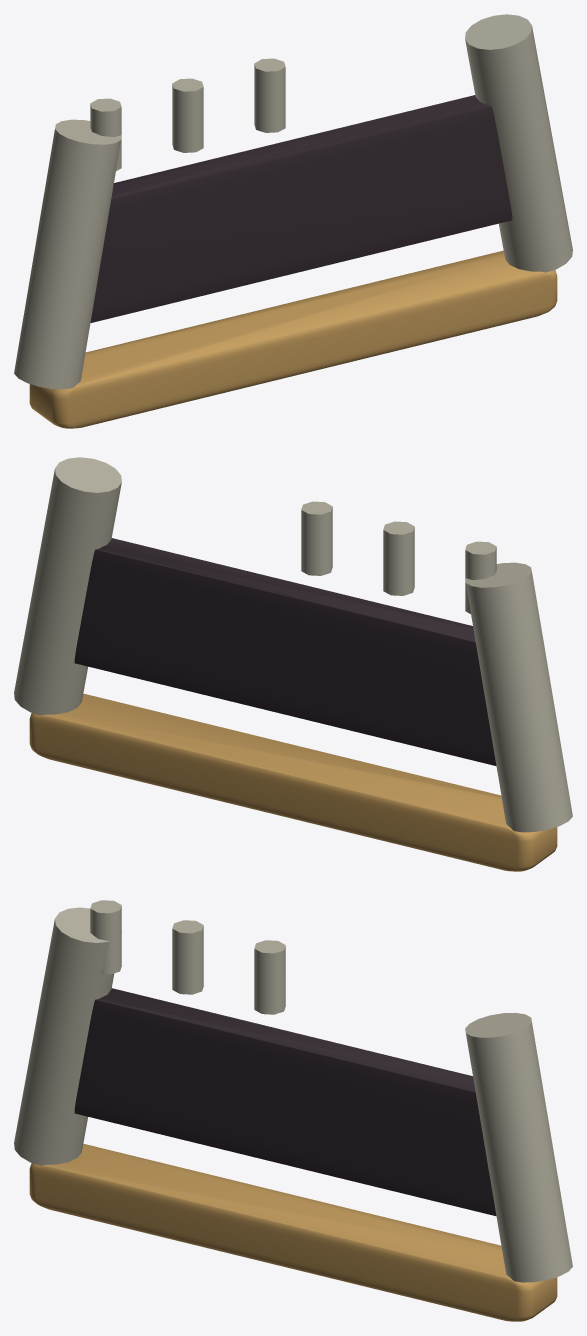
File: Metropolitan.glb
3 renders of one model, top to bottom at view 1: azimuth 30°, elevation 25°; view 2: azimuth 150°, elevation 25°; view 3: azimuth 330°, elevation 25°, orthographic.
Visible parts, largest first — view 1: Ribbon window, Lift bridge, Vibrator fork (×2), Eyelet (×3); view 2: Ribbon window, Lift bridge, Vibrator fork (×2), Eyelet (×3); view 3: Ribbon window, Lift bridge, Vibrator fork (×2), Eyelet (×3).
Part boxes in pixels (box(x1,y1,x2,y2)): Ribbon window: box(90, 95, 512, 322); Lift bridge: box(29, 250, 557, 428); Vibrator fork (×2): box(14, 14, 572, 389); Eyelet (×3): box(90, 58, 285, 170); Ribbon window: box(74, 538, 496, 765); Lift bridge: box(29, 693, 557, 871); Vibrator fork (×2): box(14, 457, 572, 832); Eyelet (×3): box(301, 501, 496, 613); Ribbon window: box(74, 988, 496, 1215); Lift bridge: box(29, 1143, 557, 1321); Vibrator fork (×2): box(14, 907, 572, 1282); Eyelet (×3): box(90, 900, 285, 1014).
Bounding box in the file's own units: 0.4697 × 0.2455 × 0.0506.
